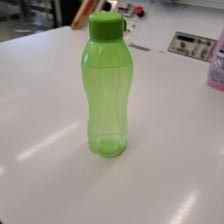bottle: (76, 9, 135, 158)
